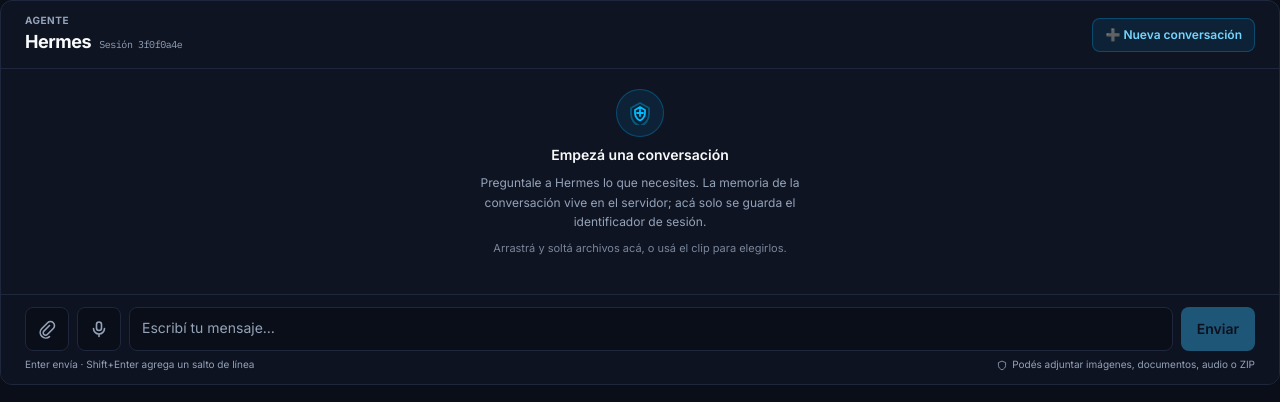
Test: HermesChat › sends with Enter and keeps Shift+Enter for a line break
Type "con enter" into the text box labelled "Escribí tu mensaje…". click: (651, 329)
box: [129,307,1173,351]
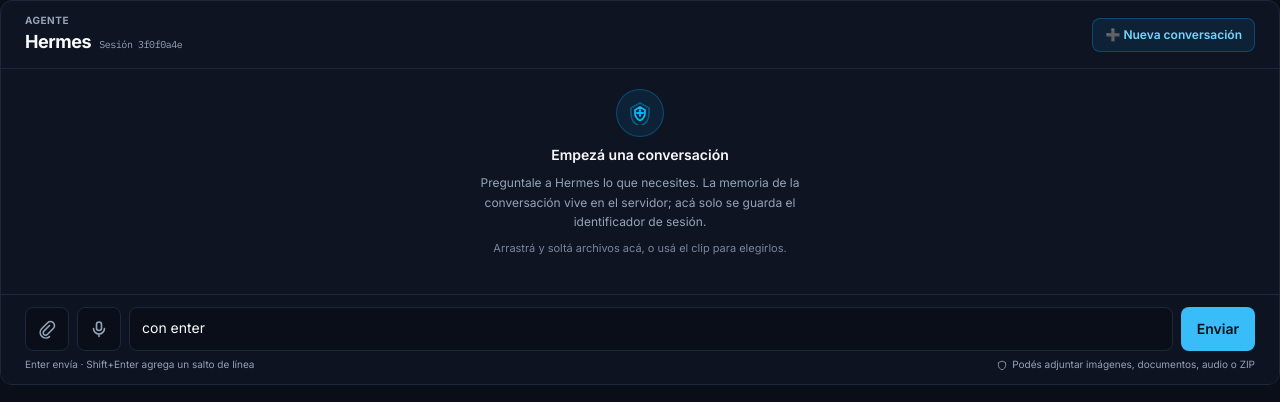
Press Enter in the text box named "Escribí tu mensaje…", box [129,307,1173,351]
Press Enter in the text box named "Escribí tu mensaje…", box [129,307,1173,351]
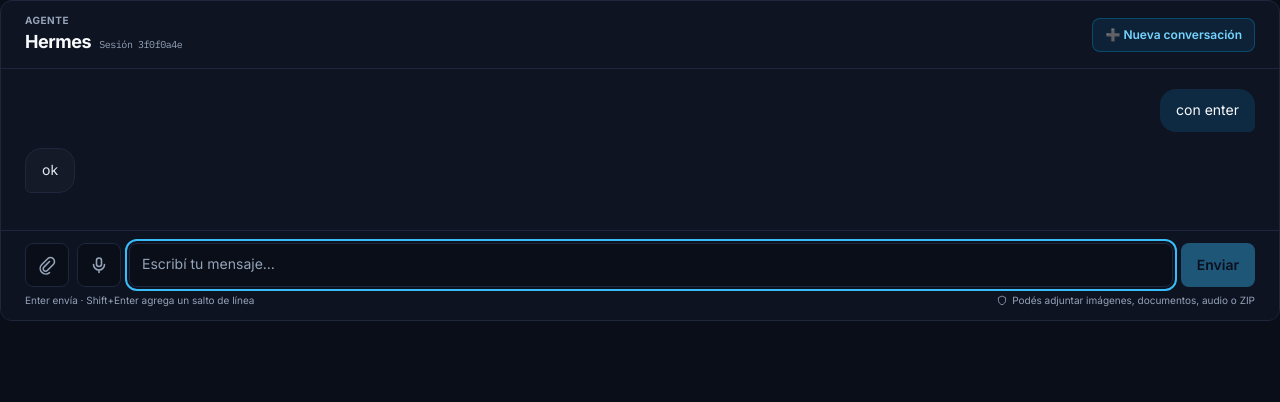
Check: the element with test id "hermes-markdown" is shown, box [42,159,58,182]
